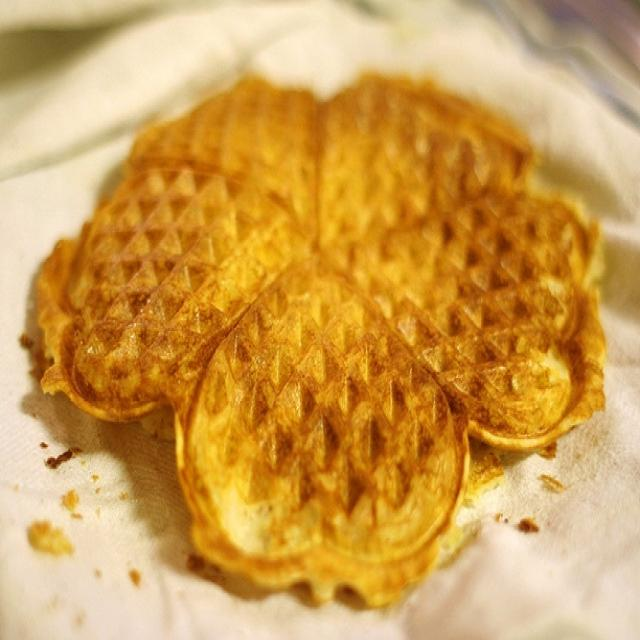炸货点心: (9, 39, 612, 621)
蛋糕甜品: (9, 39, 612, 621)
